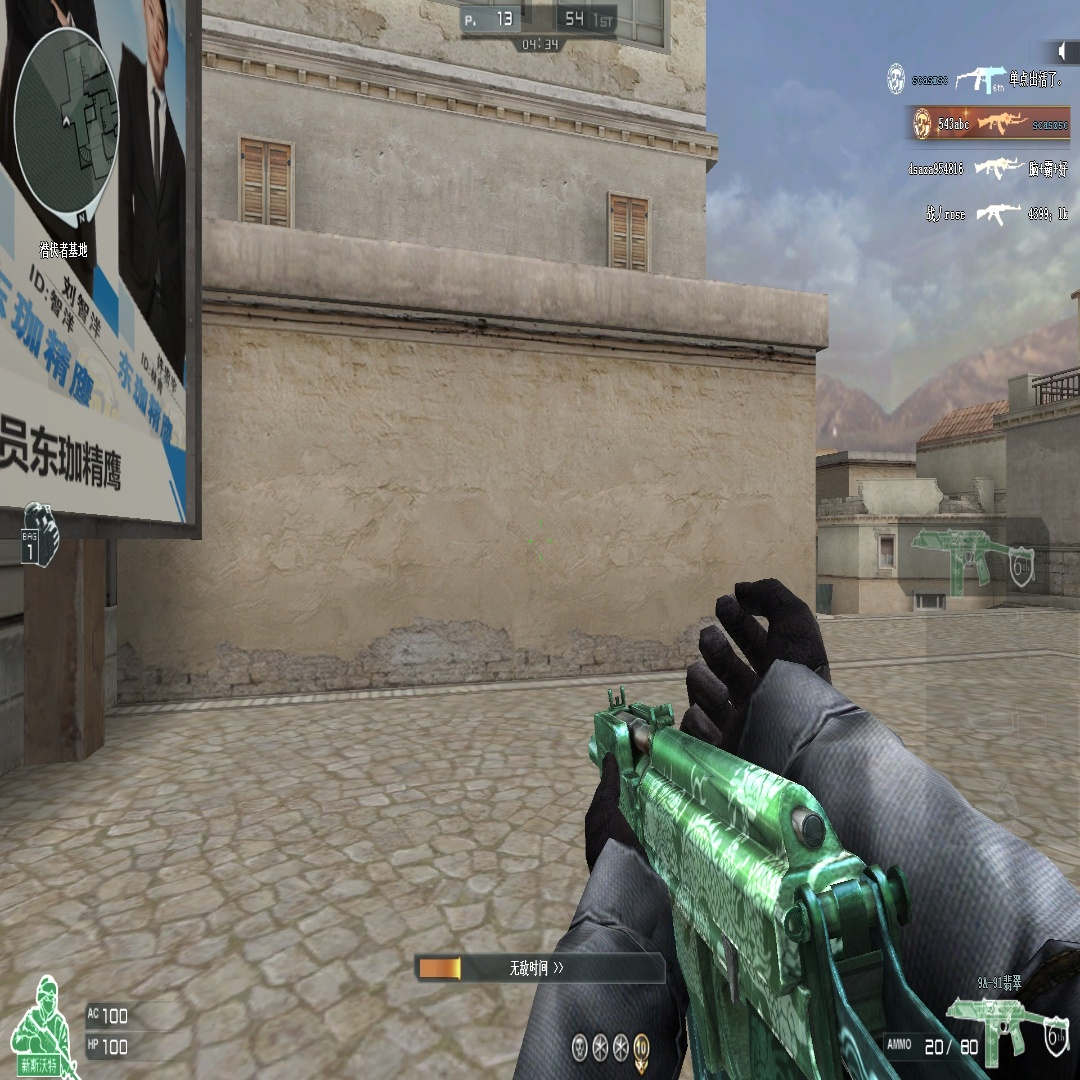p: (116, 1, 188, 385)
